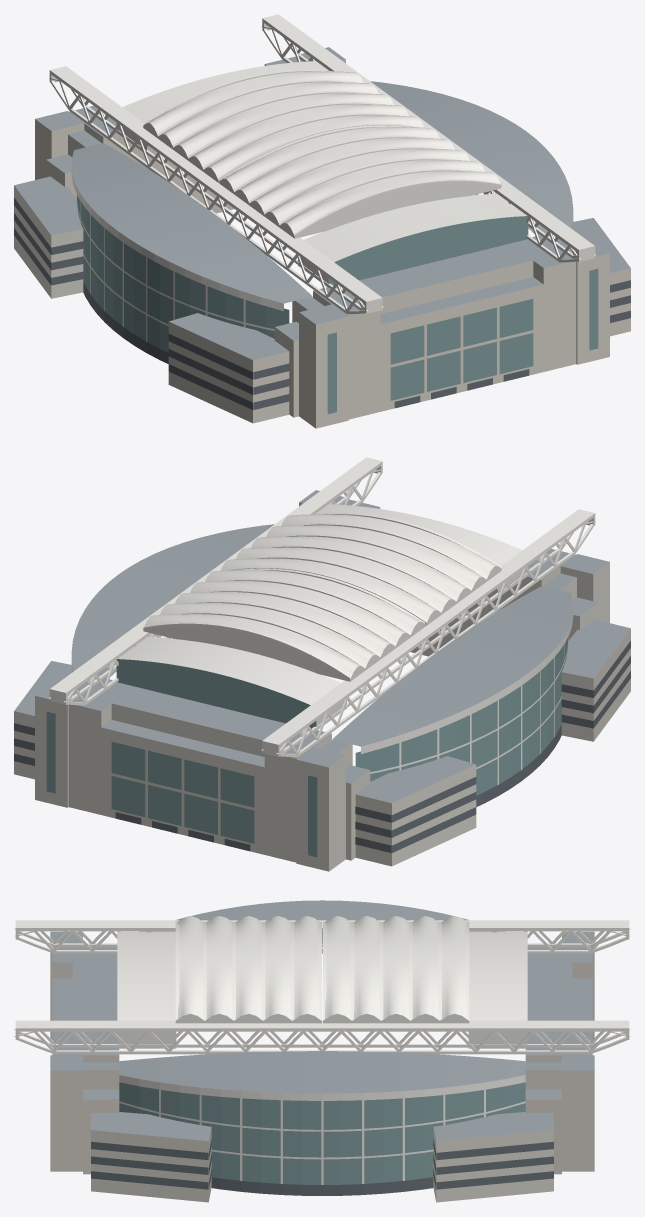
Rendered from hou-nrg-stadium.glb.
The picture shows the model from 3 angles, top to bottom: view 1: azimuth 30°, elevation 25°; view 2: azimuth 150°, elevation 25°; view 3: azimuth 270°, elevation 25°; orthographic projection. The views are drawn at different scales.
Parts seen in each view (by area): view 1: NRG Stadium; view 2: NRG Stadium; view 3: NRG Stadium.
Boxes of the visible parts, x1,y1,x2,y2 form: NRG Stadium: (14,14,630,428); NRG Stadium: (14,457,630,871); NRG Stadium: (14,900,630,1202).
Size of the model in its own units: 234 by 82.9 by 304.
